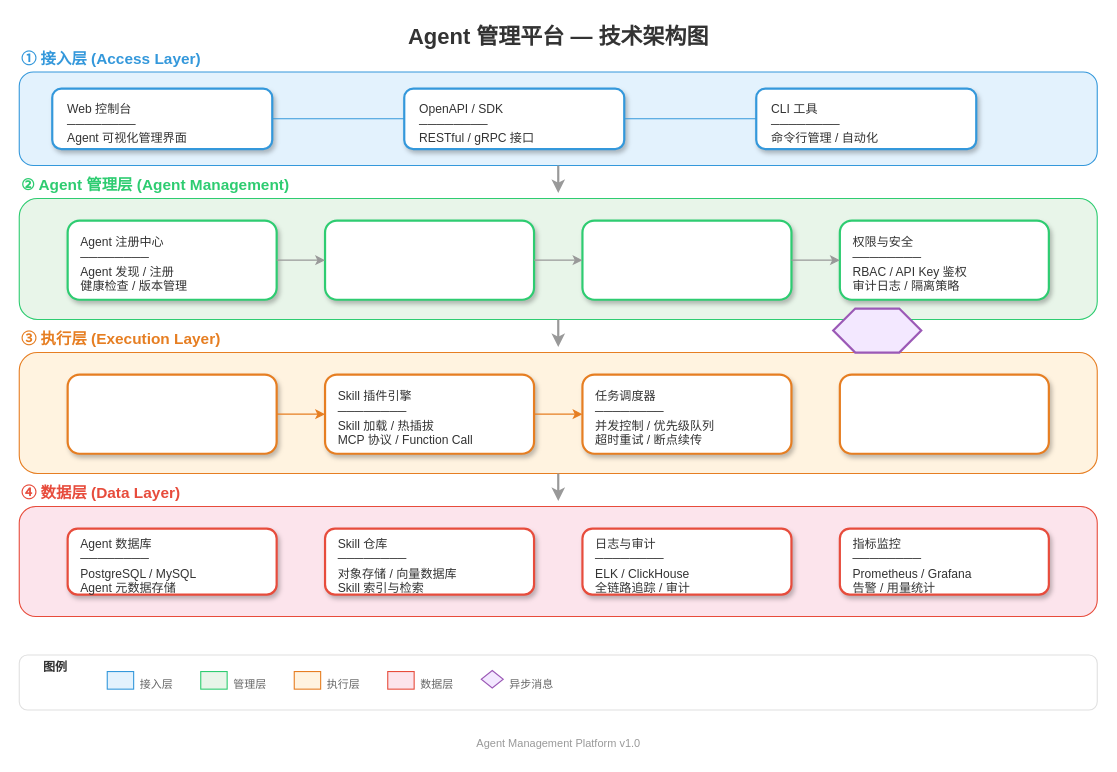
Image size: 1117x772. Some labels were removed from this diagram. The shapes that lost their labels are listed below. From the top down, each one's centre as x and y in pixels, then its label:
(430,261): 生命周期管理 ──────── 创建 / 部署 / 启停 灰度发布 / 回滚
(687,261): 配置中心 ──────── 动态配置 / 热更新 环境变量 / 密钥管理
(877,330): 消息队列 (MQ)
(173,415): Agent 运行时 ──────── 多模型调度 / 上下文管理 推理引擎 / 流式响应
(945,415): 工具网关 ──────── API 聚合 / 限流熔断 外部服务集成
